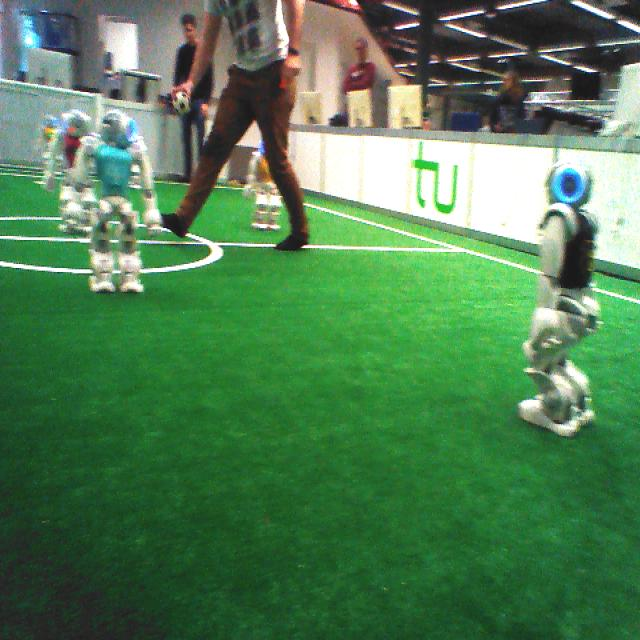goalpost: (96, 92, 105, 131)
